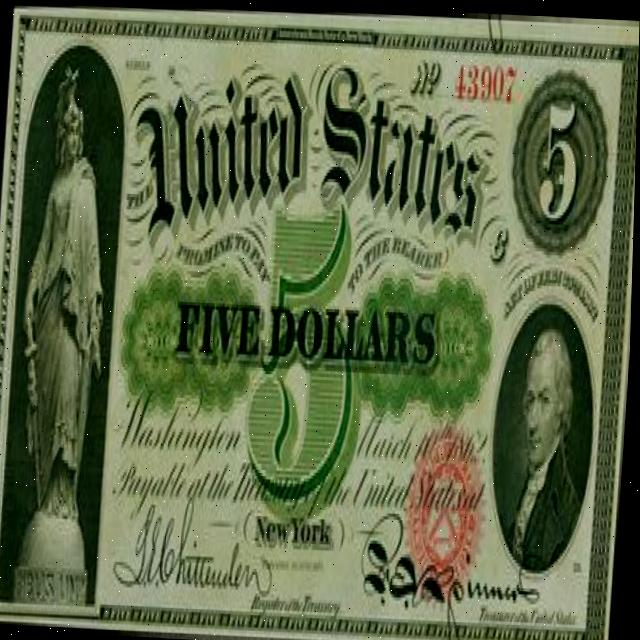banknote: (0, 1, 640, 640), (535, 90, 587, 226), (174, 292, 267, 366)
